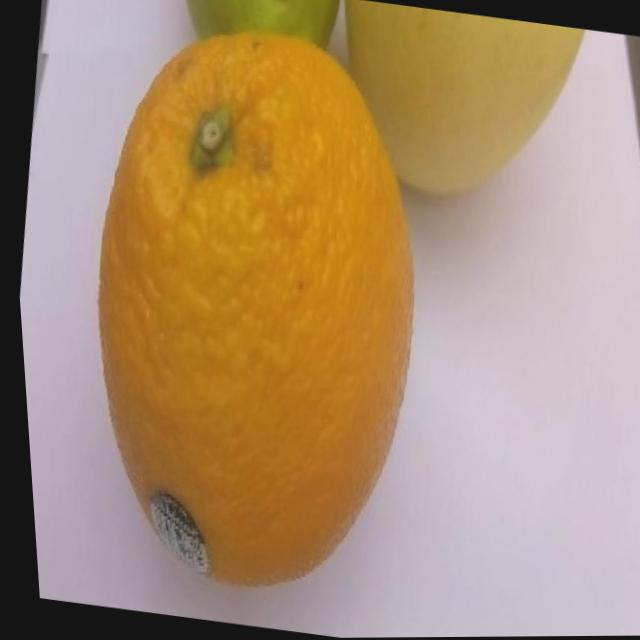Orange: (38, 11, 462, 612)
